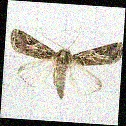Spodoptera litura: (8, 25, 120, 100)
